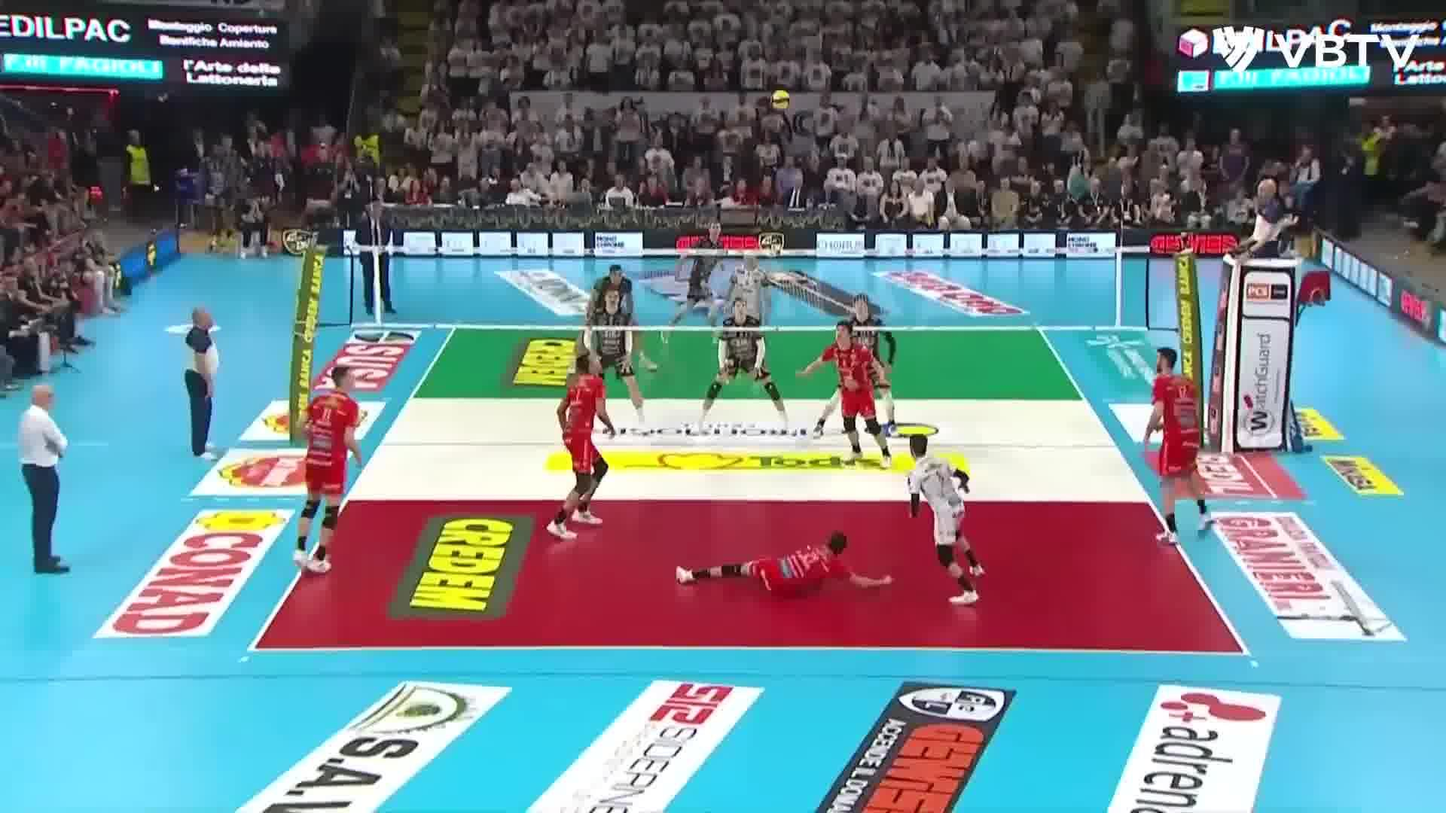balls: (768, 89, 793, 114)
